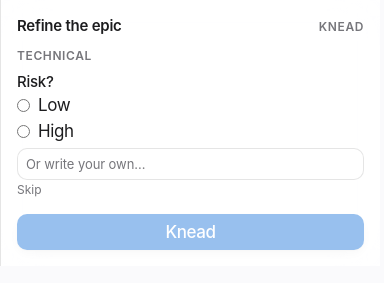
<KneadingPanel> › enables Knead when a single question is answered ONLY via the custom input
Check: the button "Knead" is disabled, box [17,214,364,250]
In the field named "custom answer for risk": (190,164) [17,148,364,180], type "Hybrid"
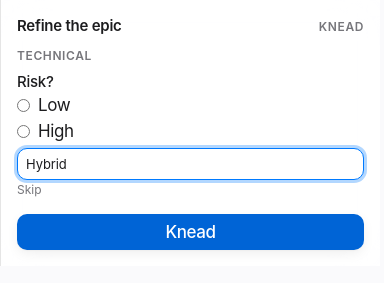
Check: the button "Knead" is enabled, box [17,214,364,250]
